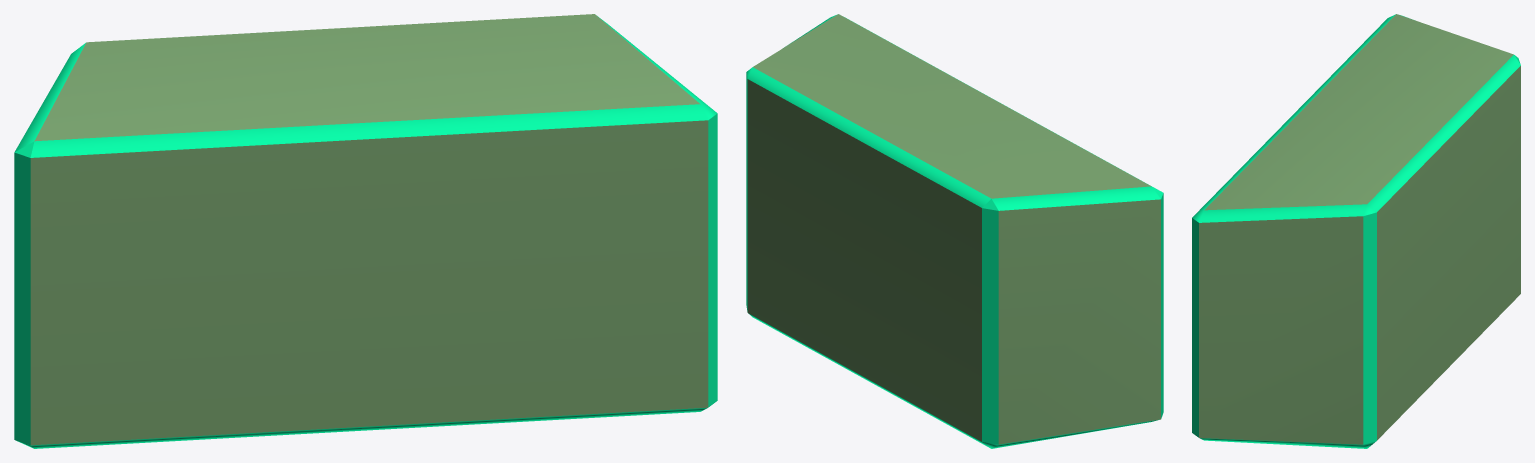
File: GreenL1.fbx
3 views of the same model, side by side, from view 1: azimuth 30°, elevation 25°; view 2: azimuth 150°, elevation 25°; view 3: azimuth 270°, elevation 25° (orthographic). The views are drawn at different scales.
Visible parts, largest first — view 1: polySurface68; view 2: polySurface68; view 3: polySurface68.
Part boxes in pixels (<box>): polySurface68: <box>14,14,717,448</box>; polySurface68: <box>746,14,1163,448</box>; polySurface68: <box>1192,14,1520,448</box>.
Size of the model in its own units: 1.6 by 0.8798 by 1.07.
